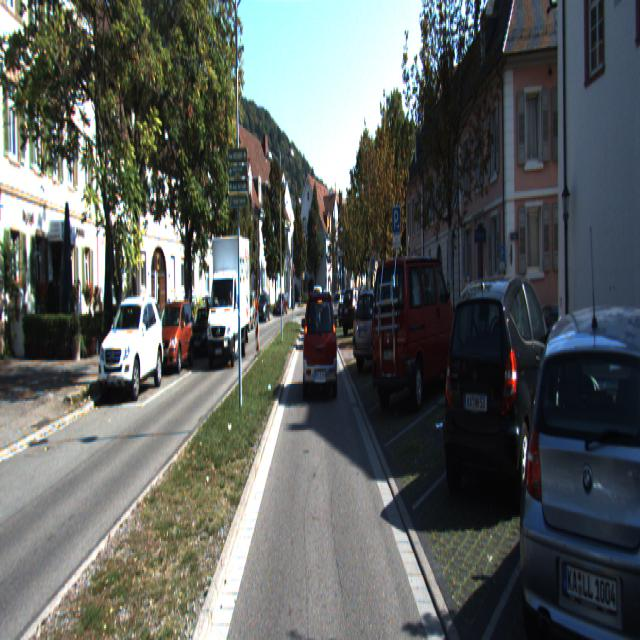Car: (514, 301, 640, 638), (441, 266, 562, 522), (370, 251, 459, 413), (100, 296, 165, 399), (206, 240, 252, 368), (354, 289, 412, 375), (304, 293, 339, 400), (153, 302, 195, 376), (116, 306, 150, 368), (340, 288, 376, 336), (188, 310, 218, 359), (338, 289, 362, 327), (231, 297, 252, 333)
